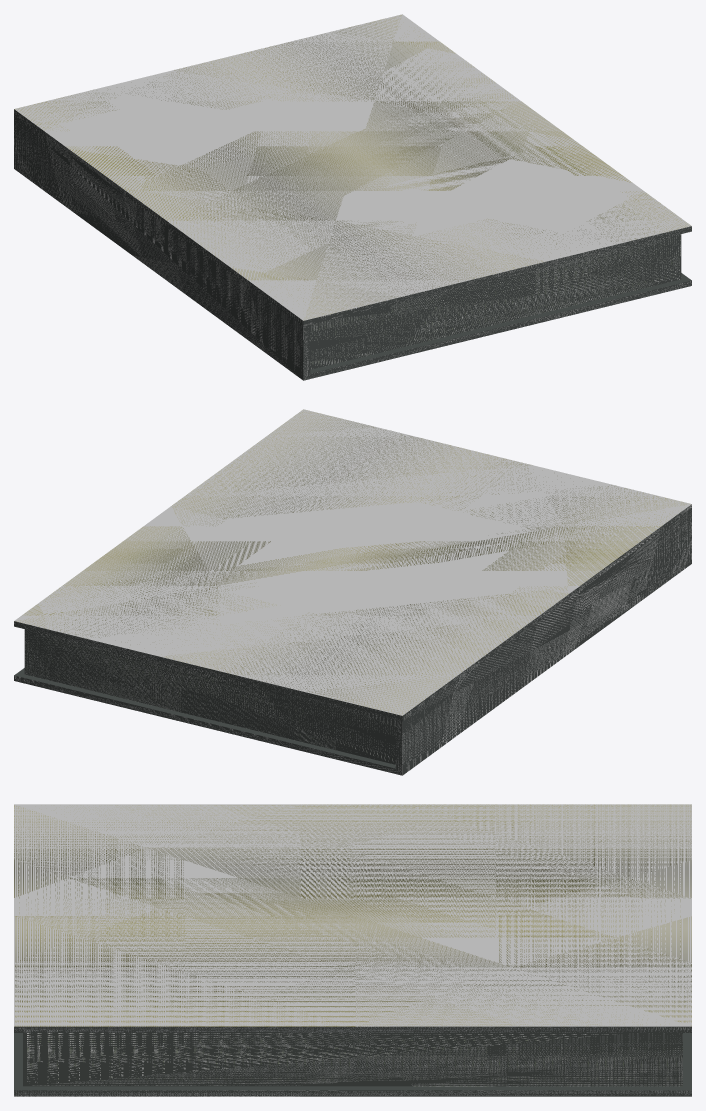
Rendered from magazine.dae.
3 renders of one model, top to bottom at view 1: azimuth 30°, elevation 25°; view 2: azimuth 150°, elevation 25°; view 3: azimuth 270°, elevation 25°, orthographic. The views are drawn at different scales.
Visible parts, largest first — view 1: group_1 (×2), group_2 (×3); view 2: group_1 (×2), group_2 (×3); view 3: group_1 (×2), group_2 (×3).
Boxes of the visible parts, x1,y1,x2,y2 form: group_1 (×2): (14,14,691,326); group_2 (×3): (14,115,691,380); group_1 (×2): (14,409,691,721); group_2 (×3): (14,510,691,775); group_1 (×2): (14,804,691,1032); group_2 (×3): (14,1033,691,1096).
Bounding box in the file's own units: 11.72 × 15.12 × 1.72.
